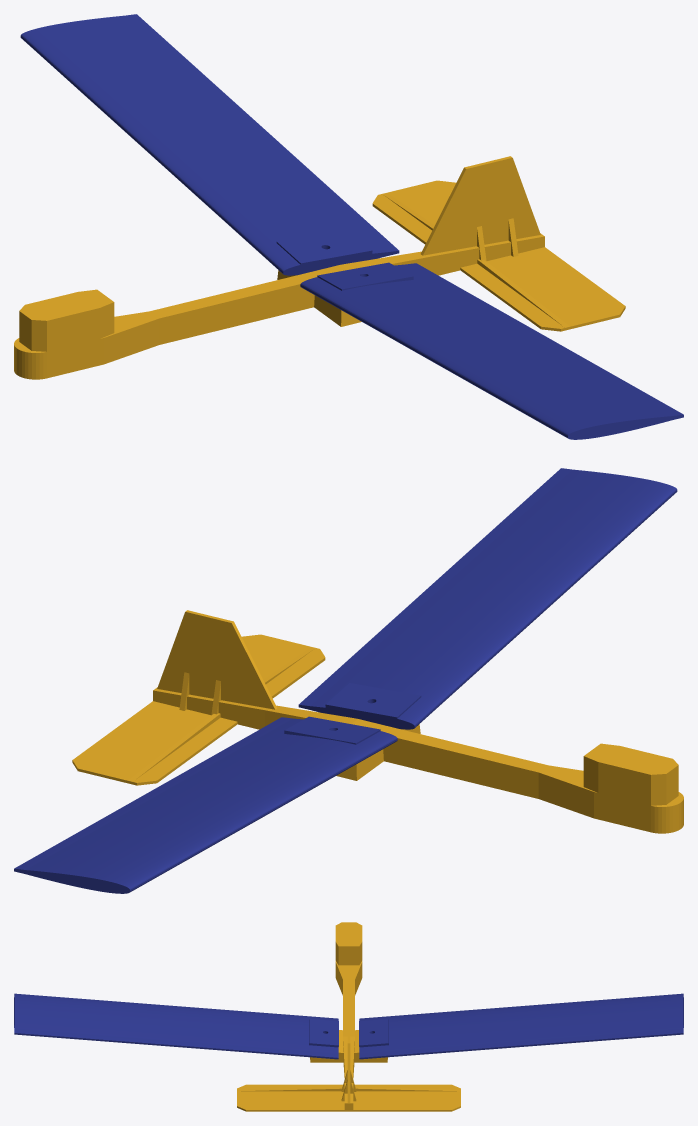
Rendered from assembly.glb.
3 renders of one model, top to bottom at view 1: azimuth 30°, elevation 25°; view 2: azimuth 150°, elevation 25°; view 3: azimuth 270°, elevation 25°, orthographic. The views are drawn at different scales.
Visible parts, largest first — view 1: ZephyrR2_assembly (×2); view 2: ZephyrR2_assembly (×2); view 3: ZephyrR2_assembly (×2).
Part boxes in pixels (x1=…): ZephyrR2_assembly (×2): x1=14, y1=14, x2=683, y2=439; ZephyrR2_assembly (×2): x1=14, y1=468, x2=683, y2=893; ZephyrR2_assembly (×2): x1=14, y1=922, x2=683, y2=1111.
Bounding box in the file's own units: 0.248 × 0.044 × 0.4488.
